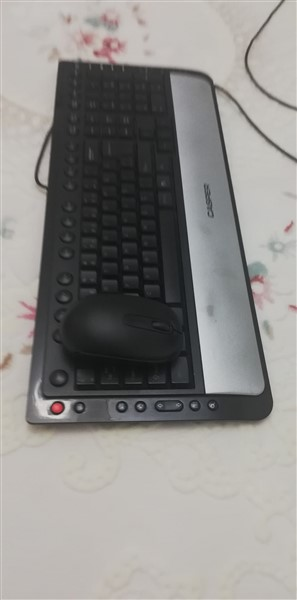klavye: (31, 52, 282, 439)
mouse: (57, 289, 192, 374)
